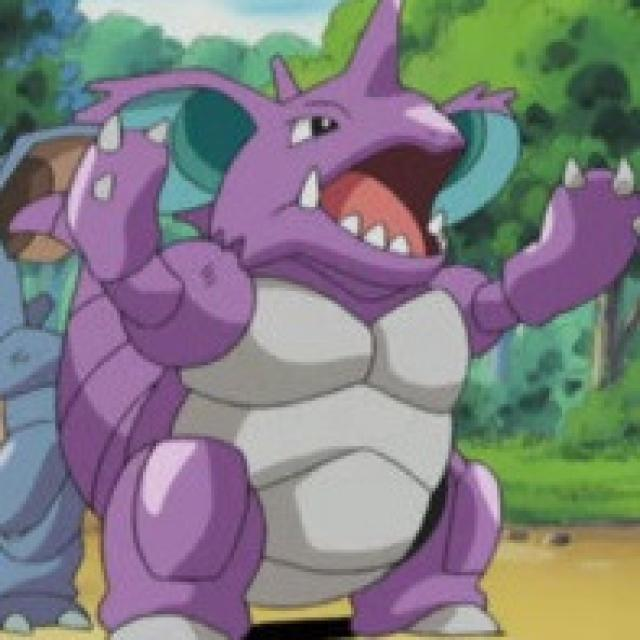Nidoking: (63, 14, 539, 640)
